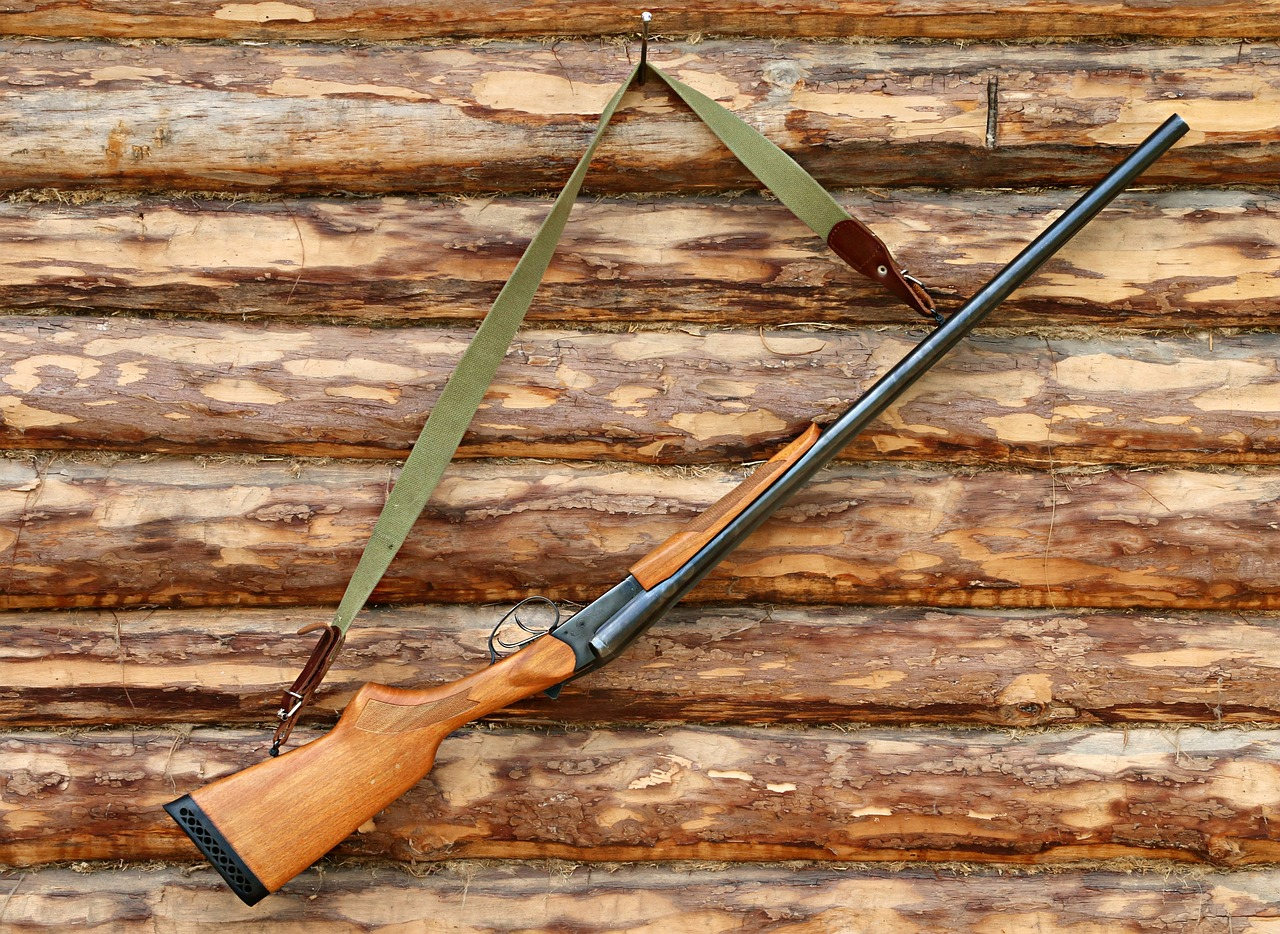gun: (156, 109, 1193, 912)
